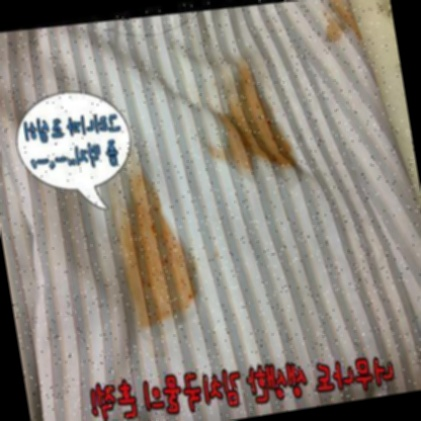kimchi: (191, 42, 302, 184), (111, 167, 207, 329), (312, 0, 361, 51)
